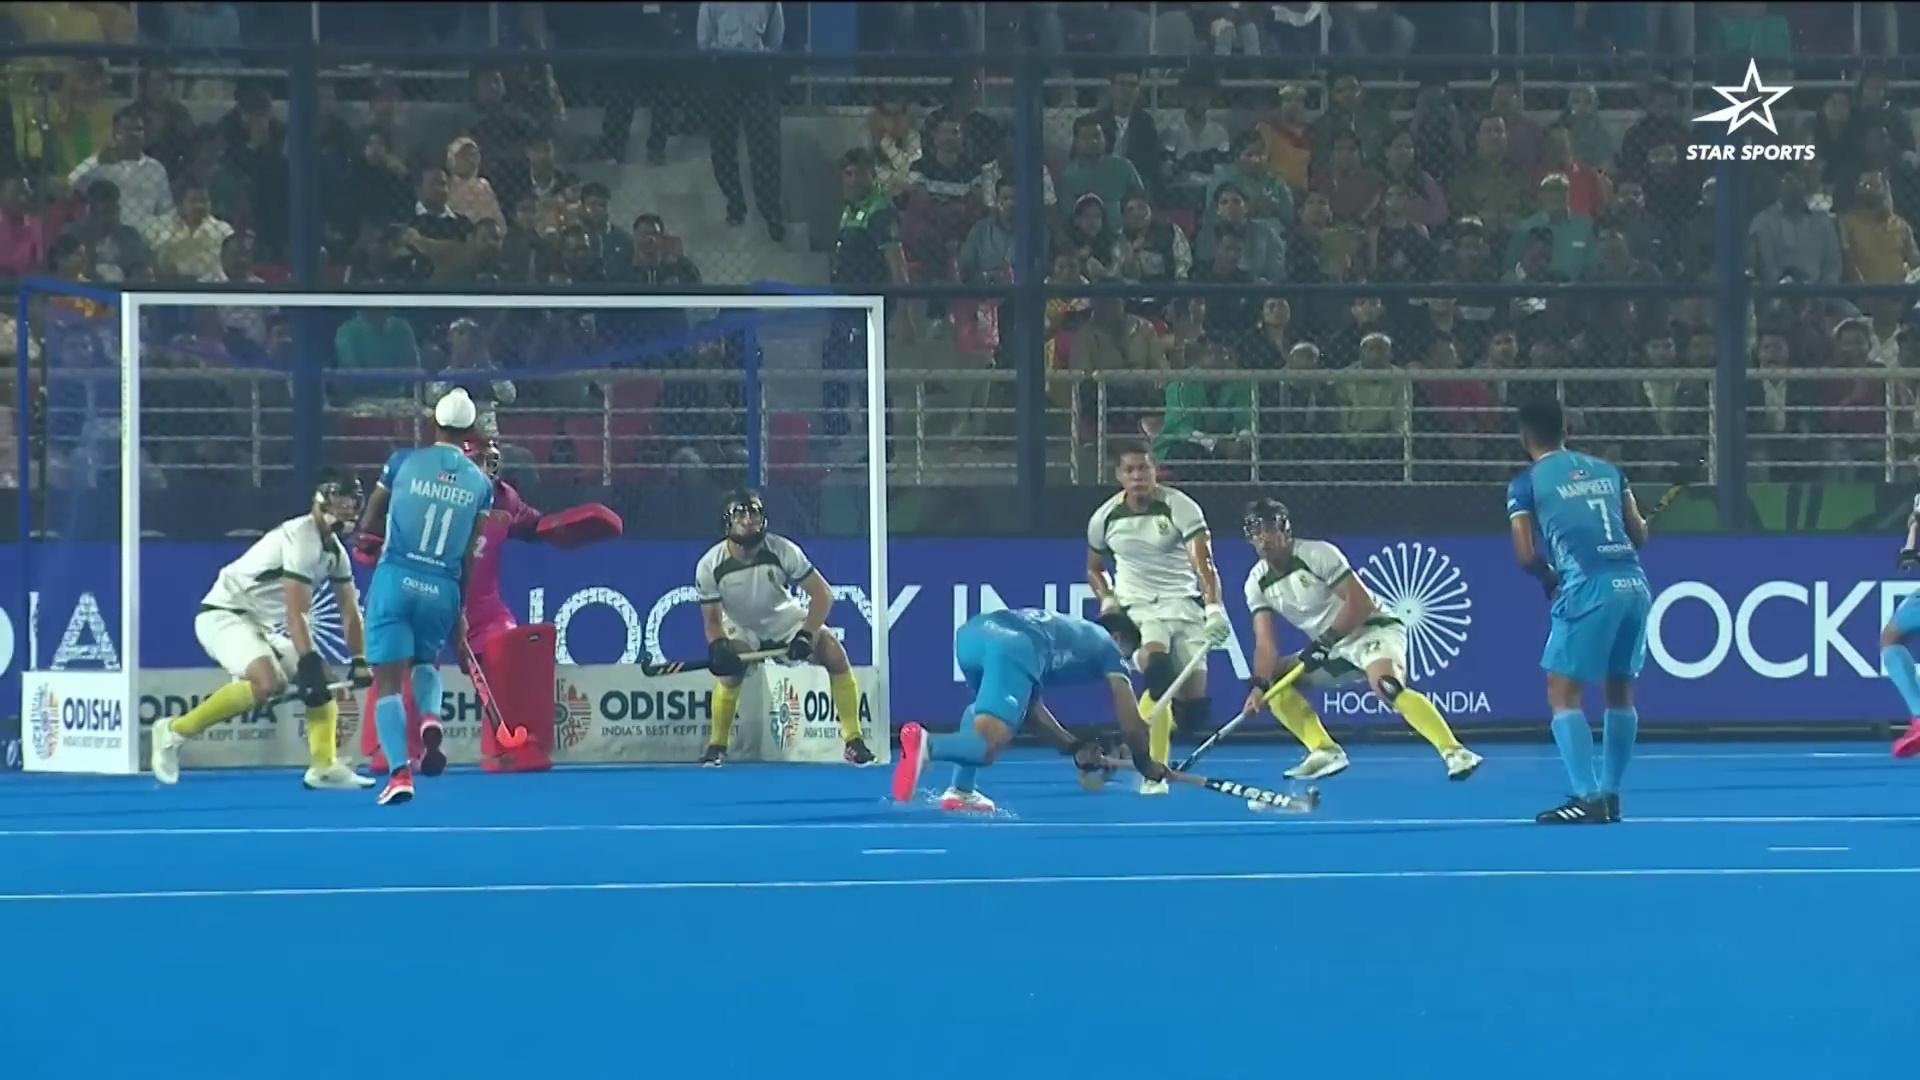ball: (1244, 786, 1270, 818)
